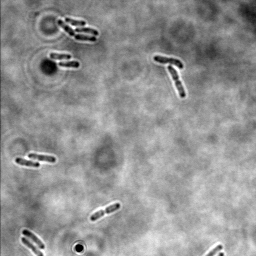Dividing: (166, 65, 187, 99), (89, 201, 122, 222), (152, 54, 185, 70), (20, 236, 44, 255)
Microcolony: (56, 16, 100, 44)
Rod: (21, 229, 45, 250), (25, 151, 58, 164), (13, 157, 40, 170), (57, 59, 81, 70), (48, 51, 73, 61)
